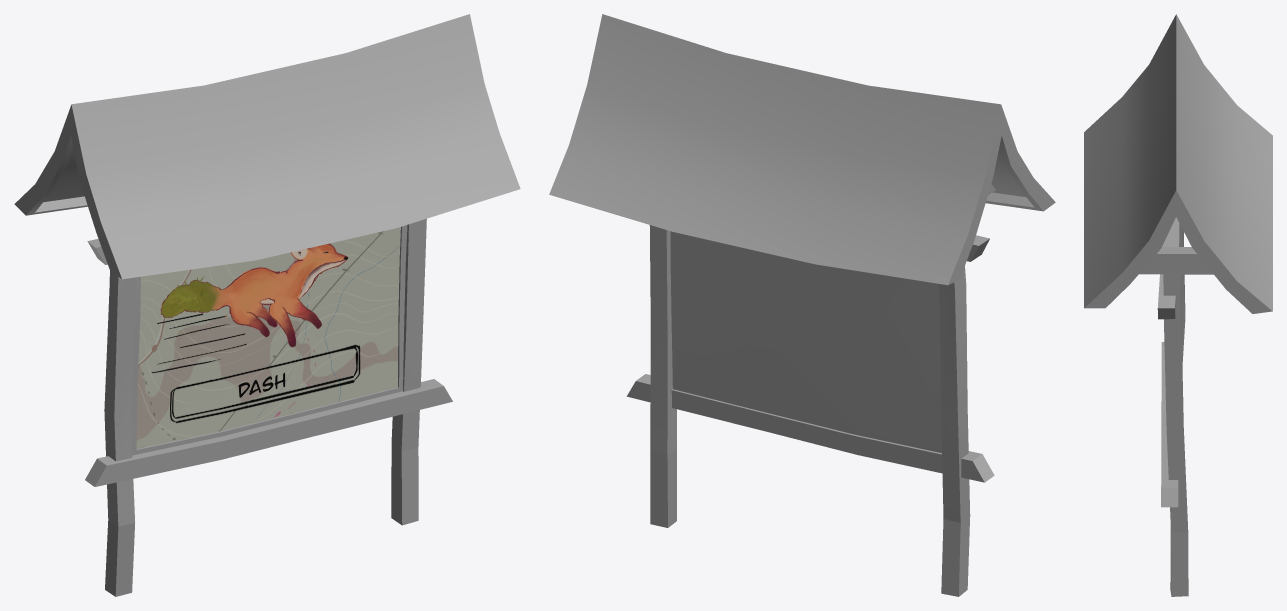
Rendered from Post_big_dash.fbx.
3 renders of one model, left to right at view 1: azimuth 30°, elevation 25°; view 2: azimuth 150°, elevation 25°; view 3: azimuth 270°, elevation 25°, orthographic. The views are drawn at different scales.
Parts seen in each view (by area): view 1: Post_Big; view 2: Post_Big; view 3: Post_Big.
Part boxes in pixels (x1,y1,x2,y2): Post_Big: (14,14,520,596); Post_Big: (549,14,1055,596); Post_Big: (1084,14,1272,596).
Size of the model in its own units: 5.46 by 6.5 by 2.55.
2 materials, 1 textured.
